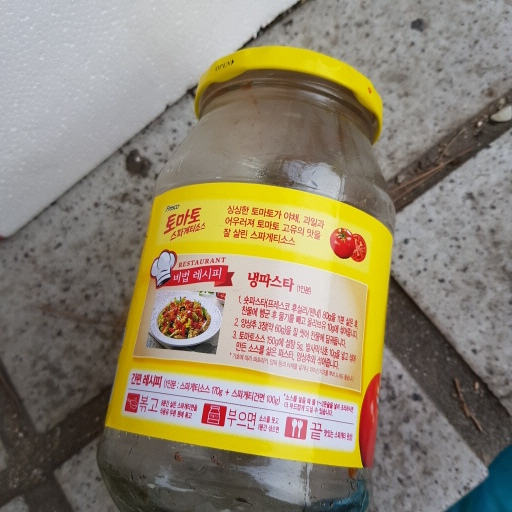Glass_5: (102, 48, 398, 512)
